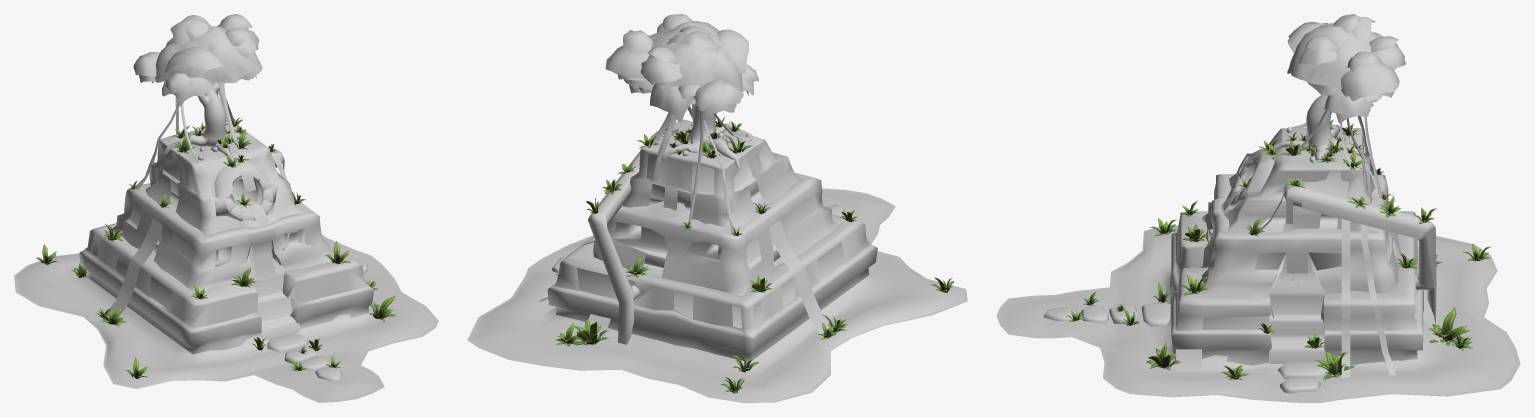
Rendered from Maison_Peta.fbx.
3 renders of one model, left to right at view 1: azimuth 30°, elevation 25°; view 2: azimuth 150°, elevation 25°; view 3: azimuth 270°, elevation 25°, orthographic. The views are drawn at different scales.
Visible parts, largest first — view 1: herbemaison, feuillearbre, maison, grassvolume, tronc; view 2: herbemaison, feuillearbre, maison, grassvolume, tronc; view 3: herbemaison, maison, feuillearbre, grassvolume, tronc.
Part boxes in pixels (x1,y1,x2,y2): herbemaison: [14, 123, 438, 402]; feuillearbre: [133, 14, 262, 105]; maison: [92, 151, 367, 381]; grassvolume: [36, 117, 396, 378]; tronc: [133, 82, 240, 189]; herbemaison: [467, 119, 967, 402]; feuillearbre: [605, 14, 758, 122]; maison: [552, 145, 844, 328]; grassvolume: [555, 114, 953, 393]; tronc: [649, 101, 757, 233]; herbemaison: [996, 127, 1520, 402]; maison: [1043, 158, 1434, 393]; feuillearbre: [1287, 14, 1406, 123]; grassvolume: [1066, 119, 1491, 380]; tronc: [1268, 95, 1382, 197].
Size of the model in its own units: 199 by 156 by 247.
